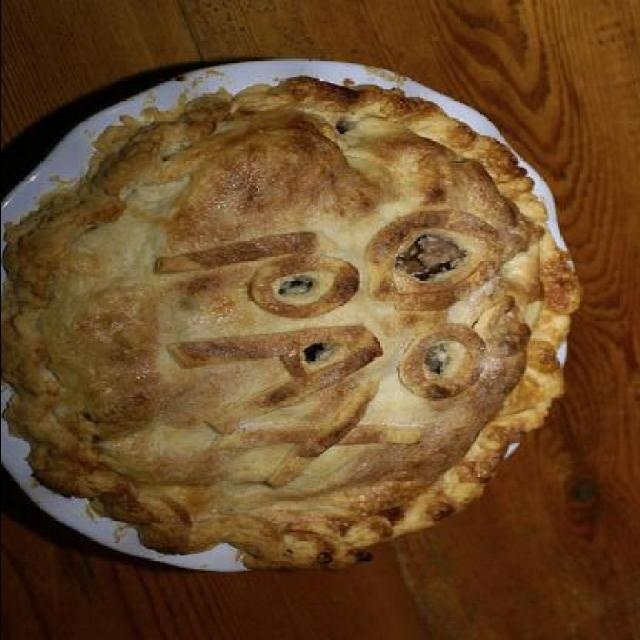Apple: (4, 87, 574, 564)
